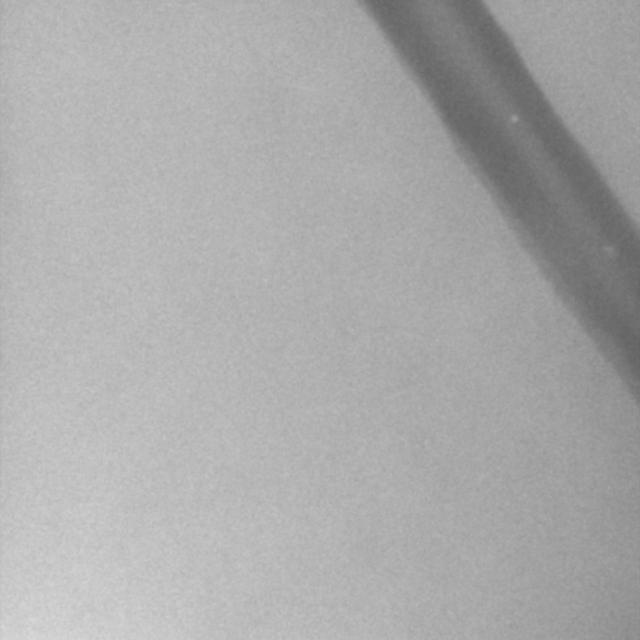air hole: (510, 114, 519, 125)
